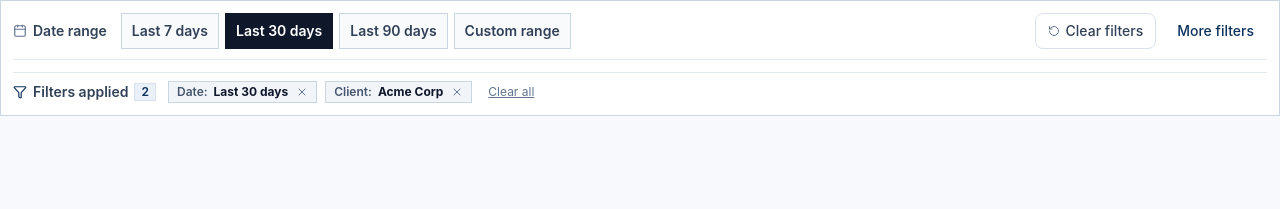
Test: Analytics Components Test Suite › hides the extra filters again when asked
This screenshot has width=1280, height=209.
Click the button "More filters": (1216, 31) [1164,13,1267,49]
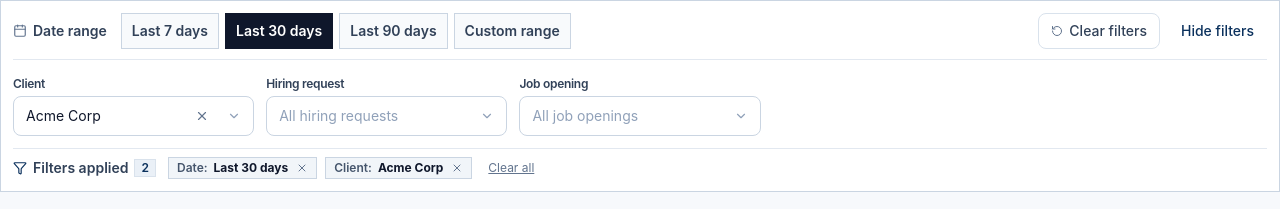
Result: the button "Hide filters" is expanded
Click the button "Hide filters": (1218, 31) [1168,13,1267,49]
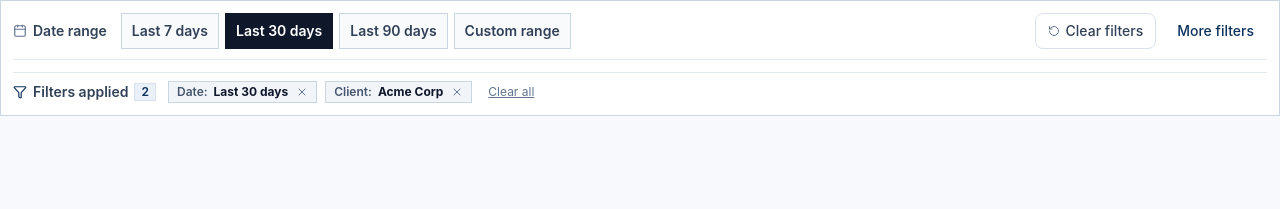
Result: the button "More filters" is collapsed at [1164,13,1267,49]
